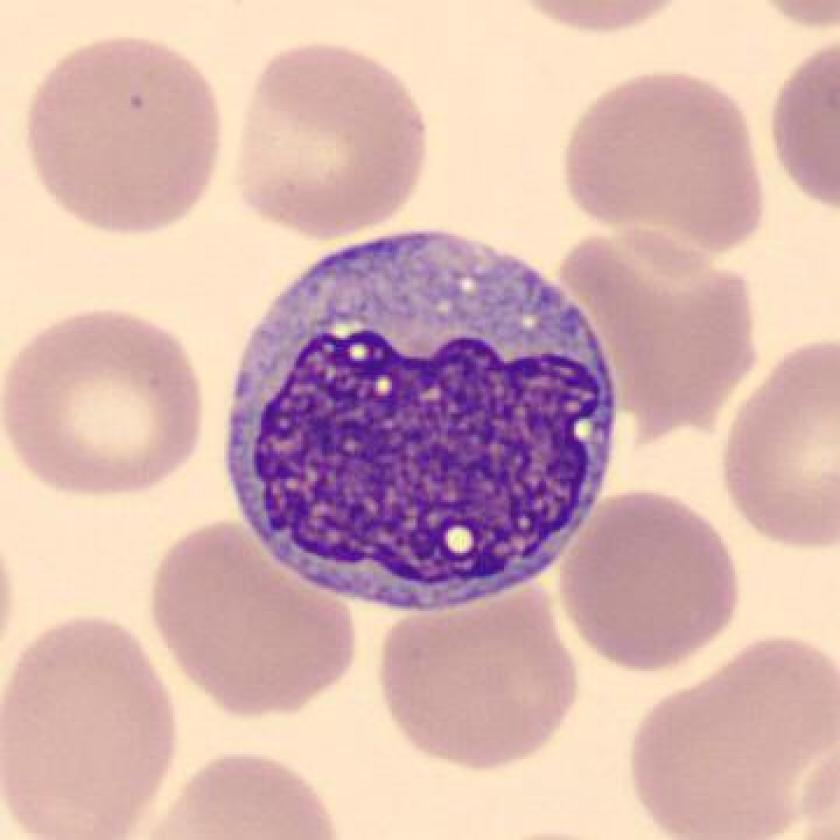monocyte: (211, 214, 636, 623)
